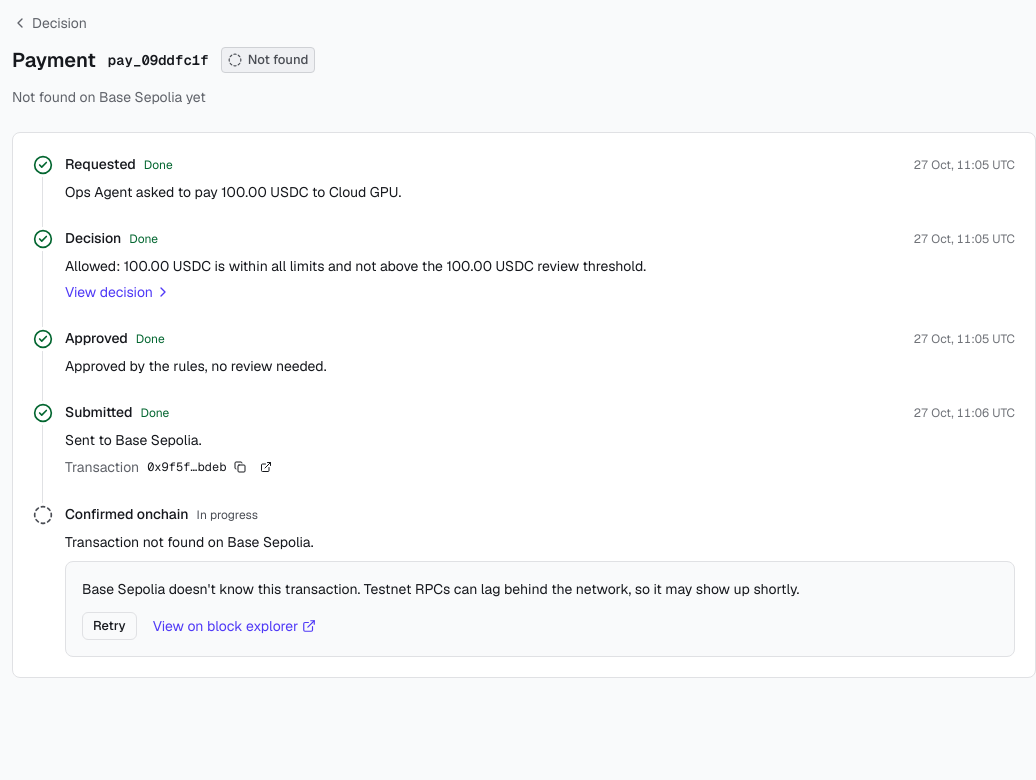
PaymentTimeline › offers Retry when the transaction isn't found, and looks again
Expected: the text "Transaction not found on Base Sepolia." is shown, [65,533,314,551]
Click the button "Retry".
click(109, 626)  # box [82,612,137,640]
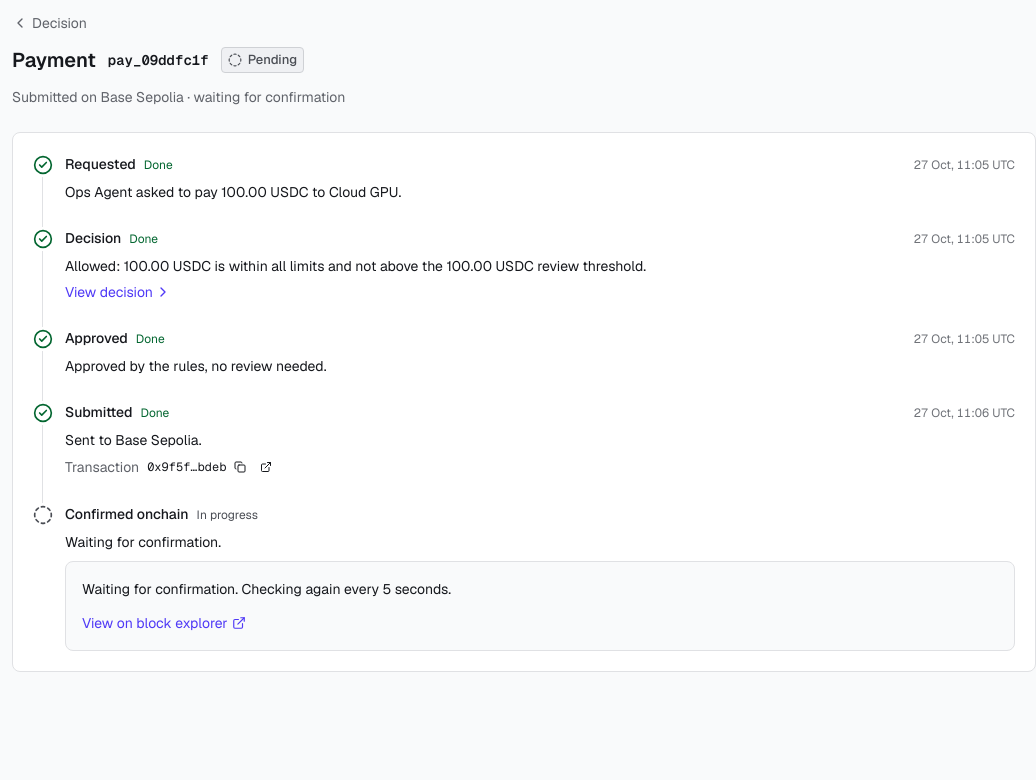
Expected: the text "Waiting for confirmation. Checking again every 5 seconds." is shown, [82,580,451,598]
